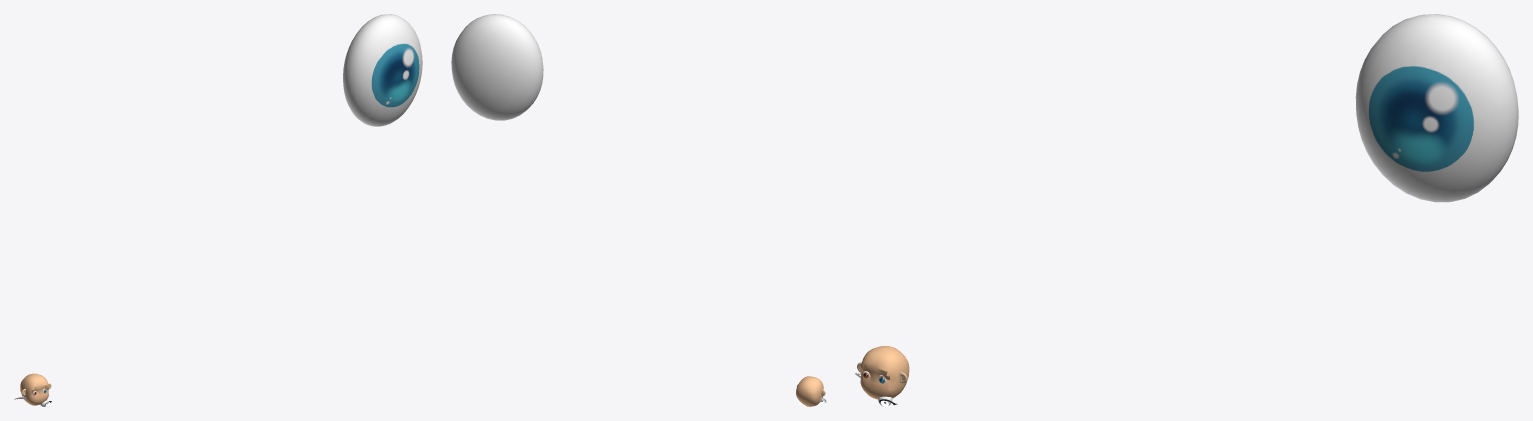
Rendered from characterv5.glb.
The picture shows the model from 3 angles, left to right: view 1: azimuth 30°, elevation 25°; view 2: azimuth 150°, elevation 25°; view 3: azimuth 330°, elevation 25°; orthographic projection. The views are drawn at different scales.
Parts seen in each view (by area): view 1: blue_eye.001, face_02; view 2: blue_eye.001, face_02; view 3: blue_eye.001, face_02.
Boxes of the visible parts, box(x1,y1,x2,y2) form: blue_eye.001: box(343, 14, 422, 126); face_02: box(20, 373, 48, 405); blue_eye.001: box(451, 14, 543, 120); face_02: box(796, 376, 823, 406); blue_eye.001: box(1355, 14, 1518, 202); face_02: box(860, 346, 909, 399).
Size of the model in its own units: 25.21 by 19.15 by 3.83.
Materials: 14 (4 with a texture image).
